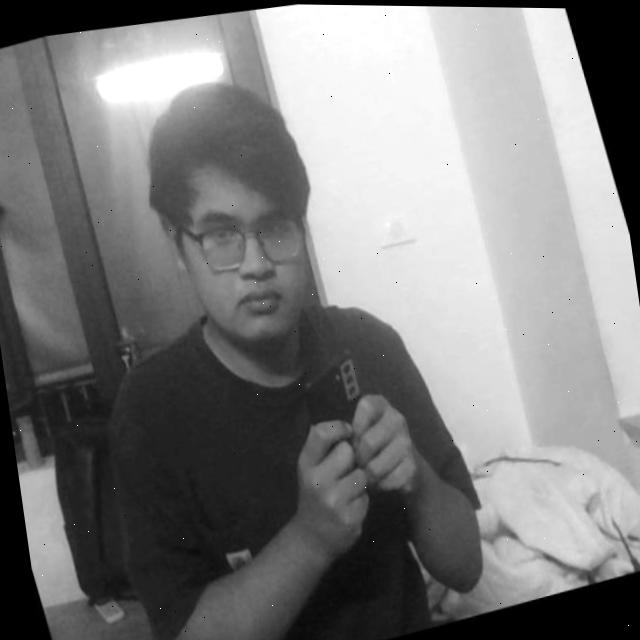phone: (276, 325, 420, 535)
